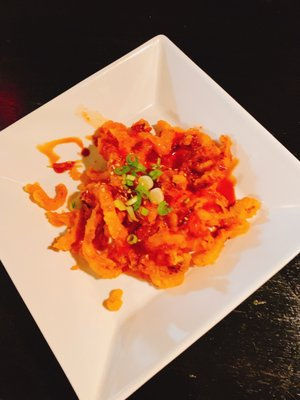curry: (1, 33, 300, 378)
sandwich: (21, 118, 265, 289)
